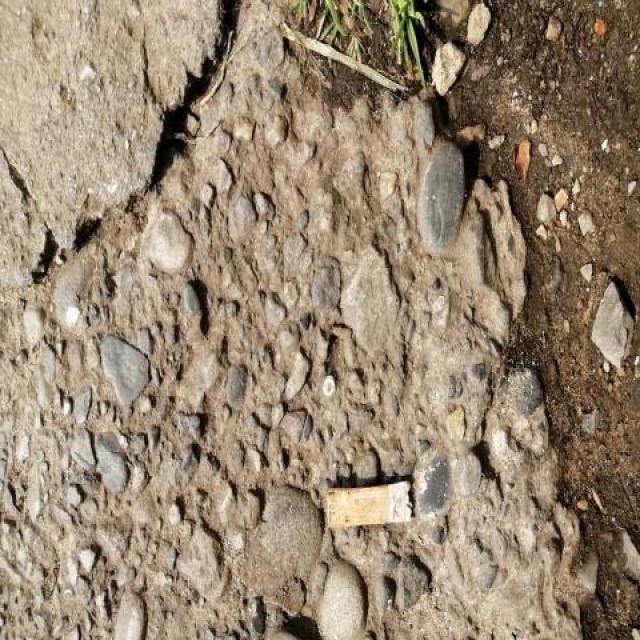non-organic waste: (320, 474, 420, 534)
